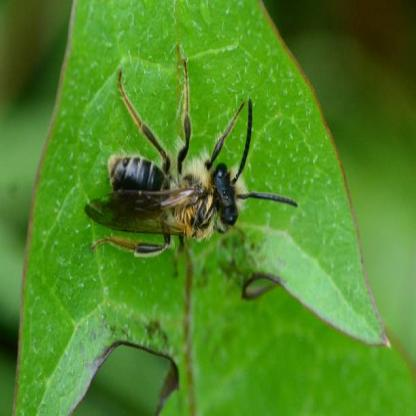sawfly: (79, 59, 304, 266)
